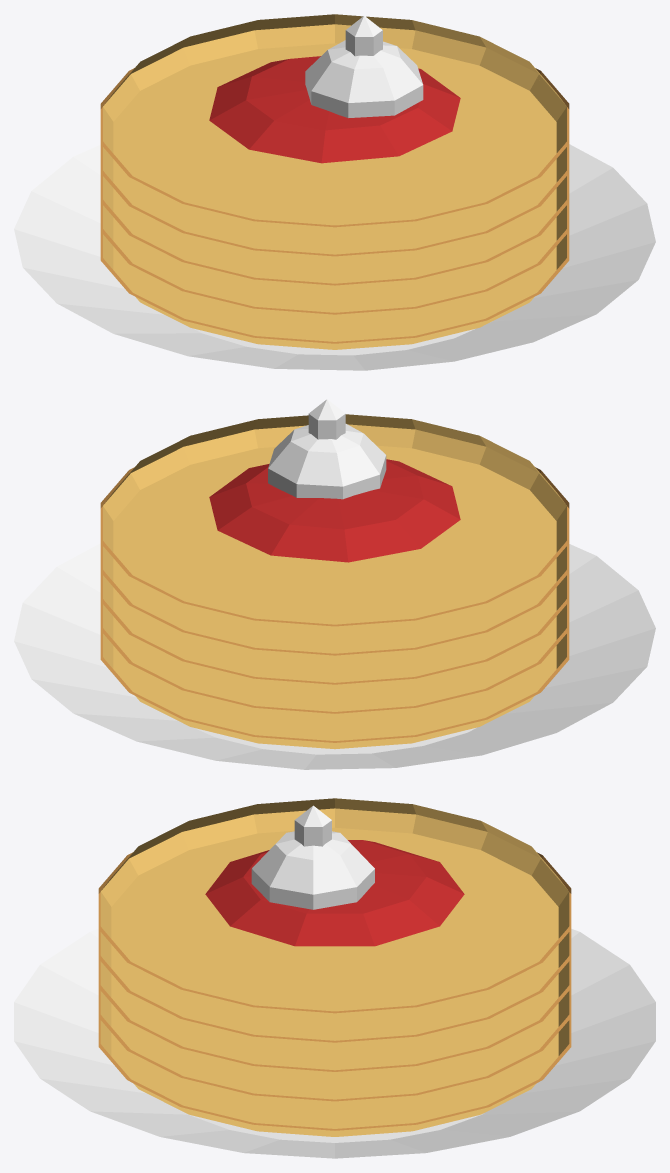
File: pannkaka.glb
The picture shows the model from 3 angles, top to bottom: view 1: azimuth 30°, elevation 25°; view 2: azimuth 150°, elevation 25°; view 3: azimuth 270°, elevation 25°; orthographic projection.
Parts seen in each view (by area): view 1: pannkaka; view 2: pannkaka; view 3: pannkaka.
Part boxes in pixels (left/top/right/bottom): pannkaka: left=14, top=14, right=655, bottom=370; pannkaka: left=14, top=399, right=655, bottom=769; pannkaka: left=14, top=798, right=655, bottom=1158.
Size of the model in its own units: 0.6 by 0.27 by 0.5939.
